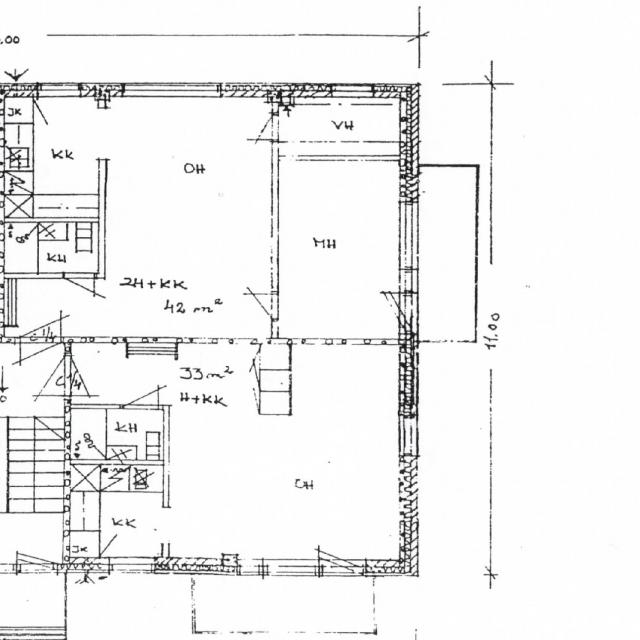door: (354, 292, 418, 334), (20, 338, 60, 381), (20, 301, 60, 344), (63, 272, 94, 306), (354, 156, 385, 189), (245, 294, 278, 318)
